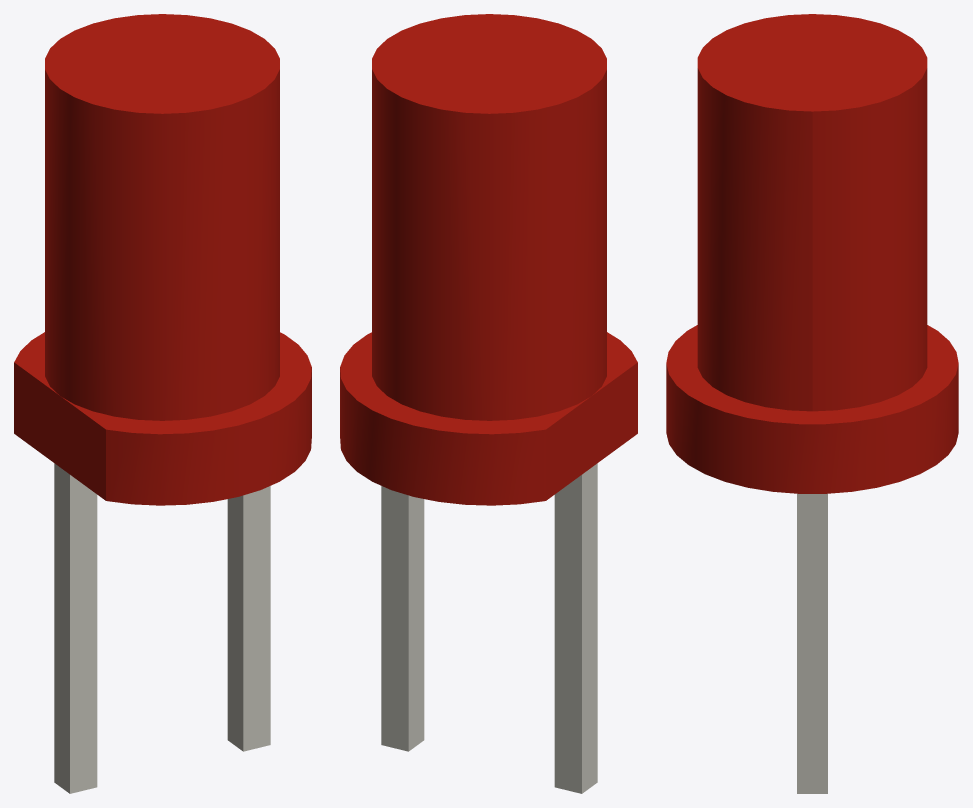
File: kc-led_d3.0mm_flattop.glb
The picture shows the model from 3 angles, left to right: view 1: azimuth 30°, elevation 25°; view 2: azimuth 150°, elevation 25°; view 3: azimuth 270°, elevation 25°; orthographic projection. The views are drawn at different scales.
Parts seen in each view (by area): view 1: 0.4166666666666667_0_0_0, 0.6666666666666666_0.6666666666666666_0.5833333333333334_0.8; view 2: 0.4166666666666667_0_0_0, 0.6666666666666666_0.6666666666666666_0.5833333333333334_0.8; view 3: 0.4166666666666667_0_0_0, 0.6666666666666666_0.6666666666666666_0.5833333333333334_0.8.
Boxes of the visible parts, x1,y1,x2,y2 form: 0.4166666666666667_0_0_0: [14, 14, 311, 505]; 0.6666666666666666_0.6666666666666666_0.5833333333333334_0.8: [54, 463, 270, 793]; 0.4166666666666667_0_0_0: [340, 14, 637, 505]; 0.6666666666666666_0.6666666666666666_0.5833333333333334_0.8: [381, 463, 597, 793]; 0.4166666666666667_0_0_0: [666, 14, 958, 493]; 0.6666666666666666_0.6666666666666666_0.5833333333333334_0.8: [797, 493, 827, 793].
Bounding box in the file's own units: 0.3392 × 0.98 × 0.38.
